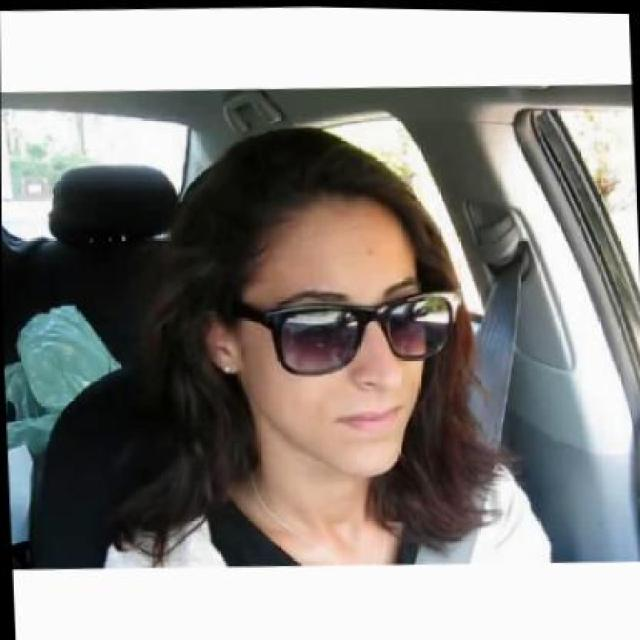attentif: (197, 121, 468, 484)
